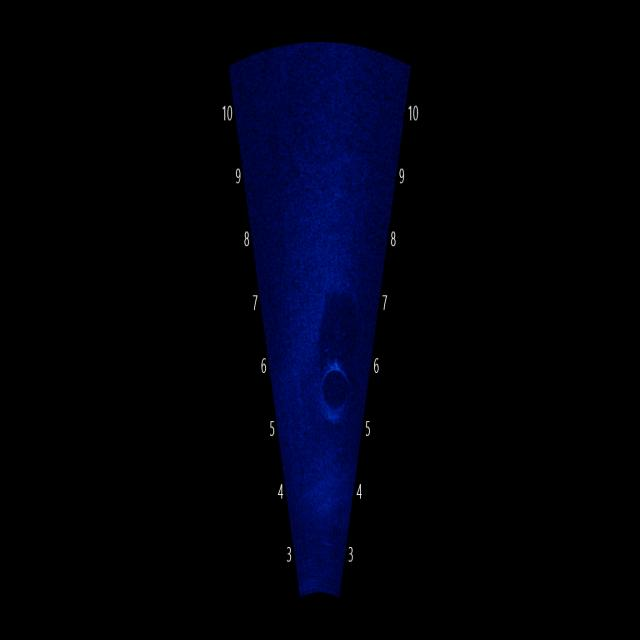circle: (312, 338, 364, 432)
